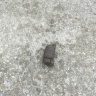Dog: (44, 43, 56, 66)
